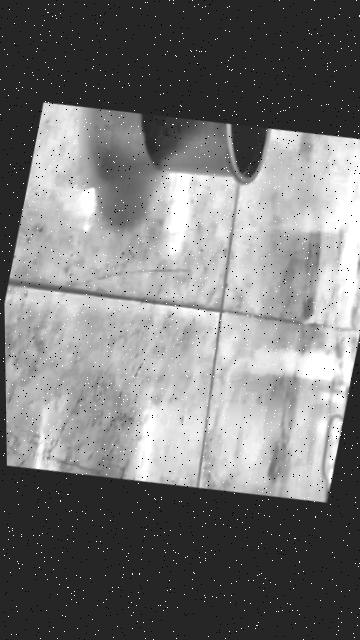pot: (127, 101, 270, 198)
